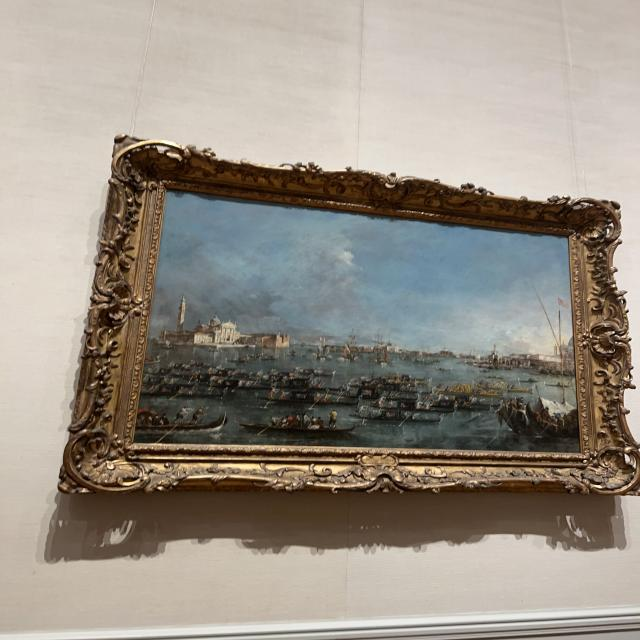ships: (134, 188, 581, 453)
